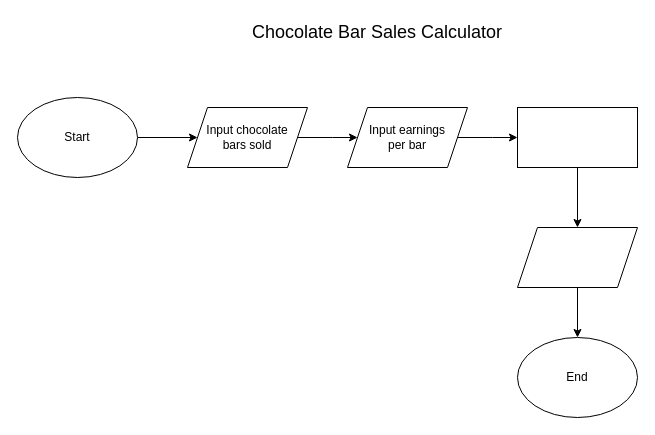
Some shapes in this 655 by 435 pixel diagram are drawn without their labels. The shapes that lost their labels are listed below. From the top down, each one's box as (x1, y1, x2, y2) in pixels, then its label:
(516, 106, 638, 168): Multiply bars sold times earnings to get total earnings
(516, 226, 638, 288): Display total earnings
